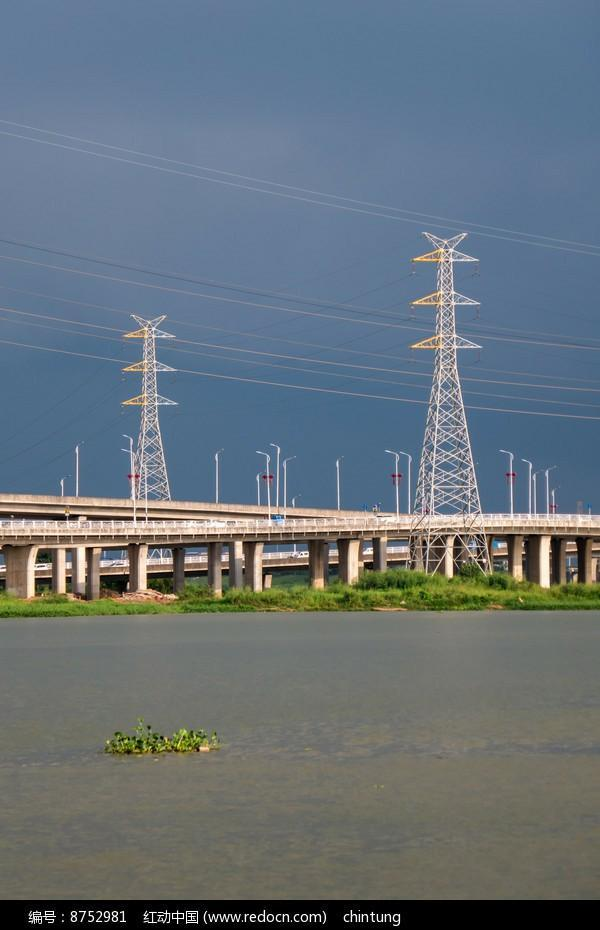power_tower: (400, 228, 509, 592), (121, 303, 181, 529)
